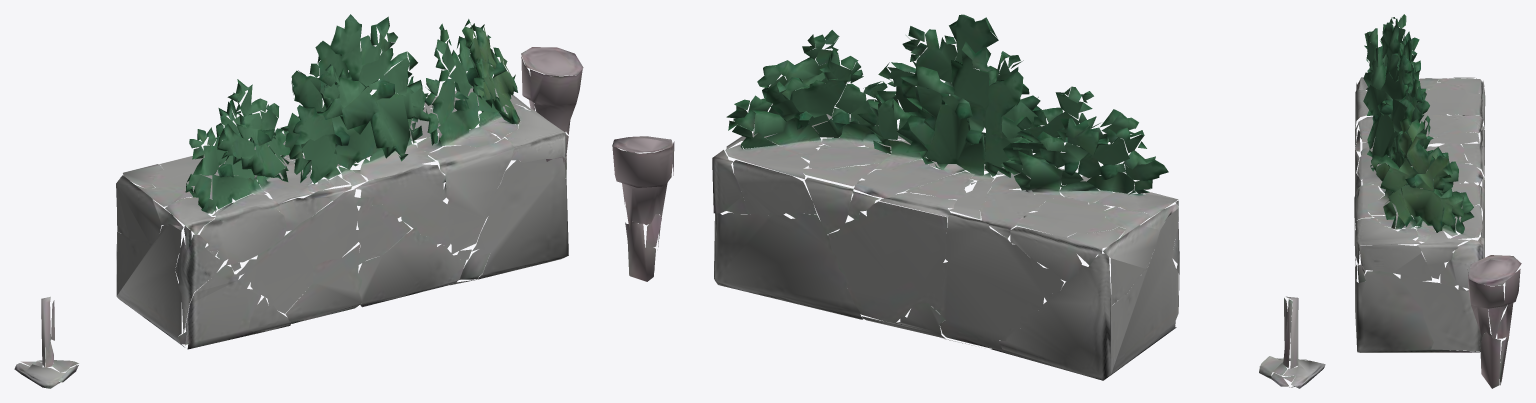
Rendered from prop15.glb.
3 views of the same model, side by side, from view 1: azimuth 30°, elevation 25°; view 2: azimuth 150°, elevation 25°; view 3: azimuth 270°, elevation 25° (orthographic). The views are drawn at different scales.
Visible parts, largest first — view 1: tripo_node_3660327a-d238-4b5c-b9f9-49275d9370c4; view 2: tripo_node_3660327a-d238-4b5c-b9f9-49275d9370c4; view 3: tripo_node_3660327a-d238-4b5c-b9f9-49275d9370c4.
Boxes of the visible parts, x1=… form: tripo_node_3660327a-d238-4b5c-b9f9-49275d9370c4: x1=14, y1=14, x2=583, y2=388; tripo_node_3660327a-d238-4b5c-b9f9-49275d9370c4: x1=612, y1=14, x2=1325, y2=388; tripo_node_3660327a-d238-4b5c-b9f9-49275d9370c4: x1=1354, y1=14, x2=1521, y2=388.
Size of the model in its own units: 0.9965 by 0.4348 by 0.2657.
Materials: 1 (1 with a texture image).
